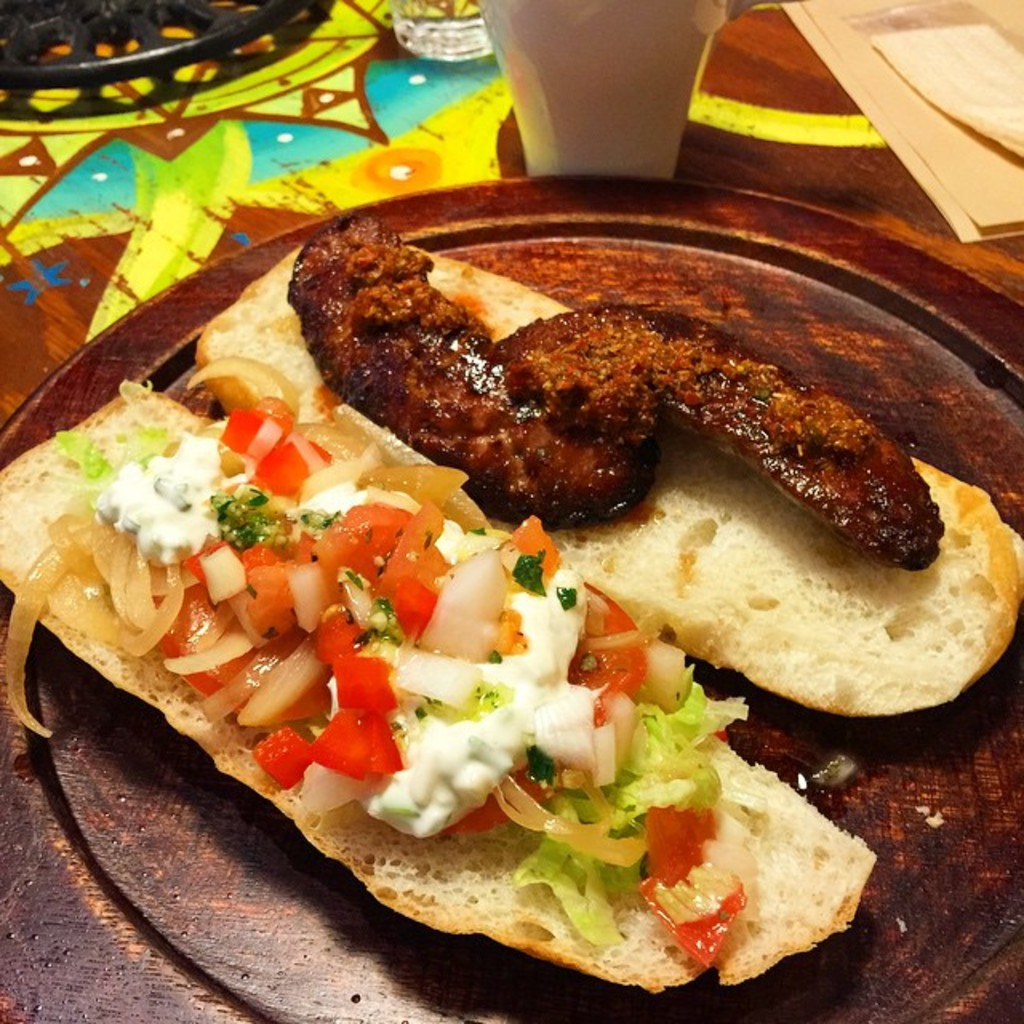taco: (202, 219, 1022, 741)
